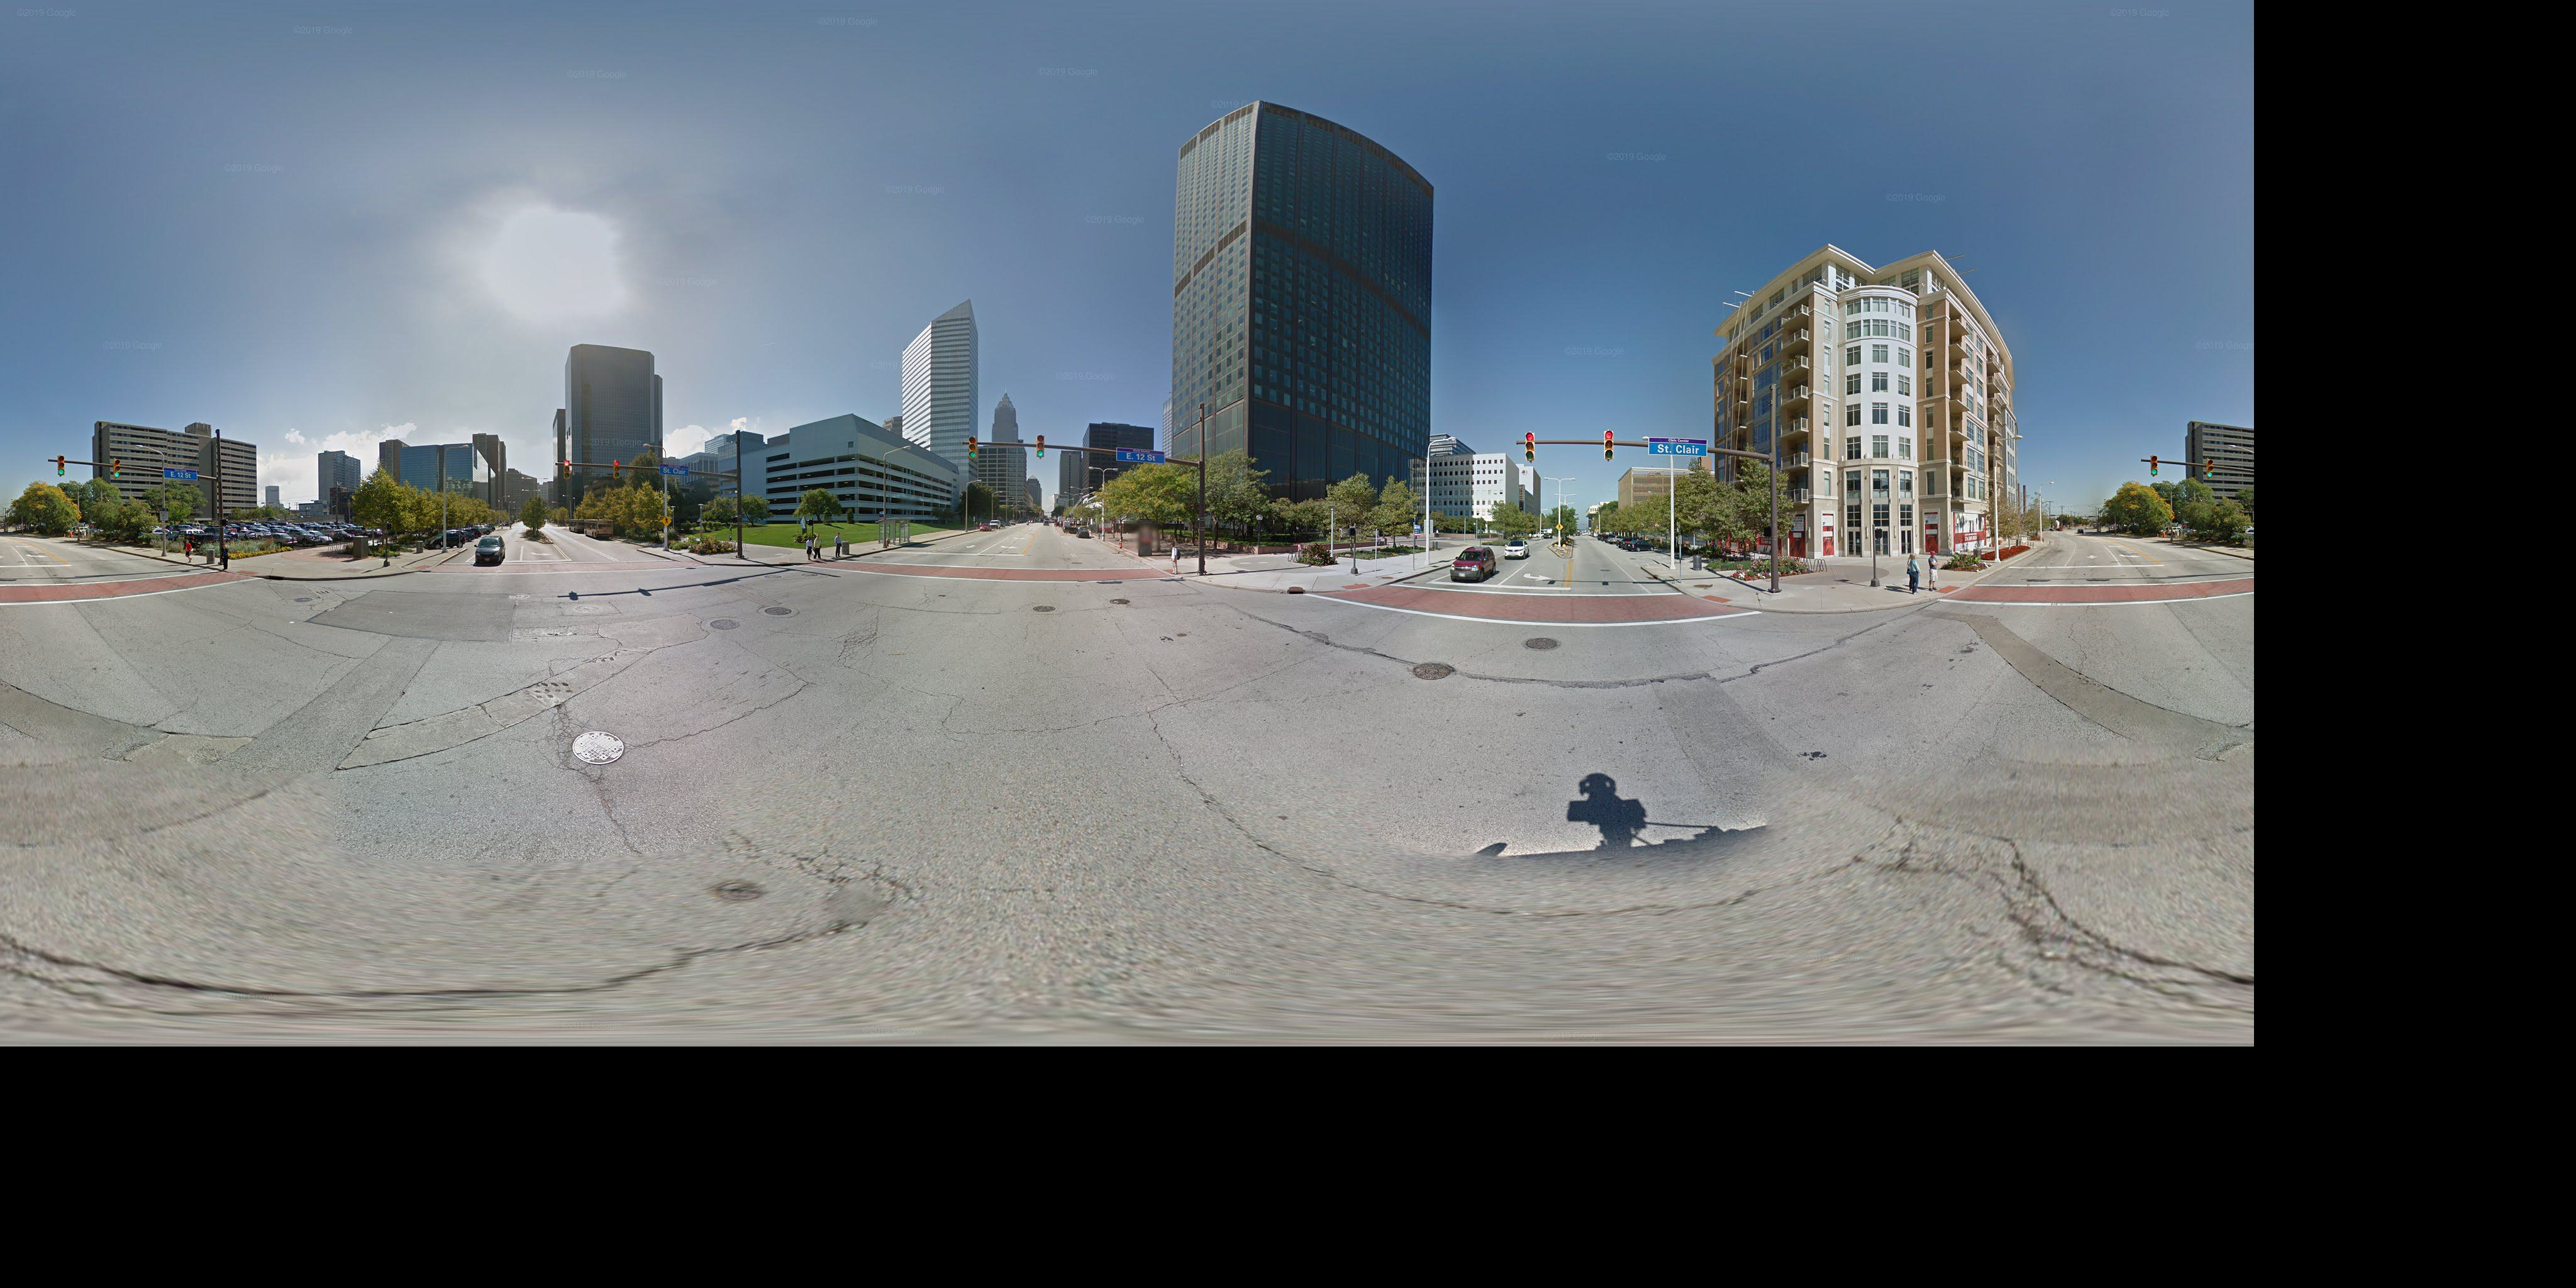Curb Ramp: (1686, 588, 1746, 613), (1930, 575, 1970, 598), (1336, 575, 1380, 595), (677, 555, 715, 572), (1155, 563, 1184, 580), (230, 565, 260, 578), (411, 562, 432, 573)
